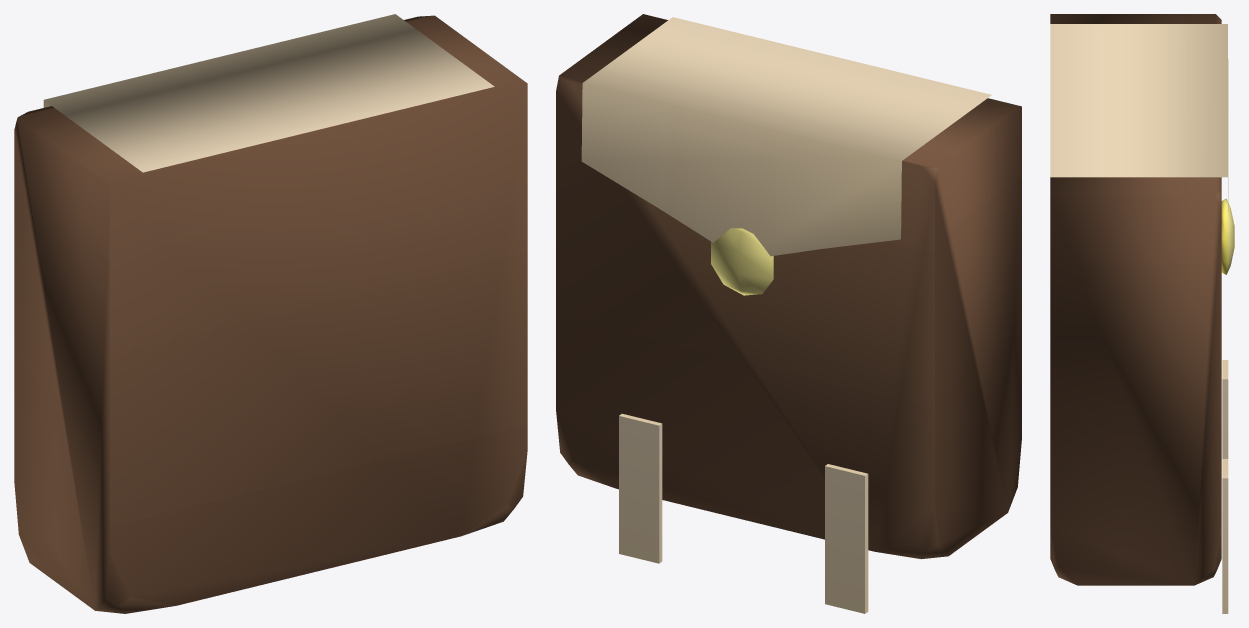
File: Tas.fbx
The picture shows the model from 3 angles, left to right: view 1: azimuth 30°, elevation 25°; view 2: azimuth 150°, elevation 25°; view 3: azimuth 270°, elevation 25°; orthographic projection. The views are drawn at different scales.
Parts seen in each view (by area): view 1: Cube; view 2: Cube; view 3: Cube.
Part boxes in pixels (<box>): Cube: <box>14,14,527,613</box>; Cube: <box>556,14,1021,613</box>; Cube: <box>1050,14,1234,613</box>.
Bounding box in the file's own units: 33.1 × 38.56 × 14.17.
